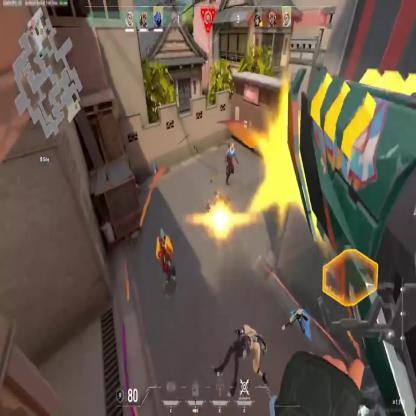enemy: (155, 228, 178, 288), (224, 141, 239, 191)
enemy_head: (159, 229, 166, 242), (230, 142, 234, 150)
